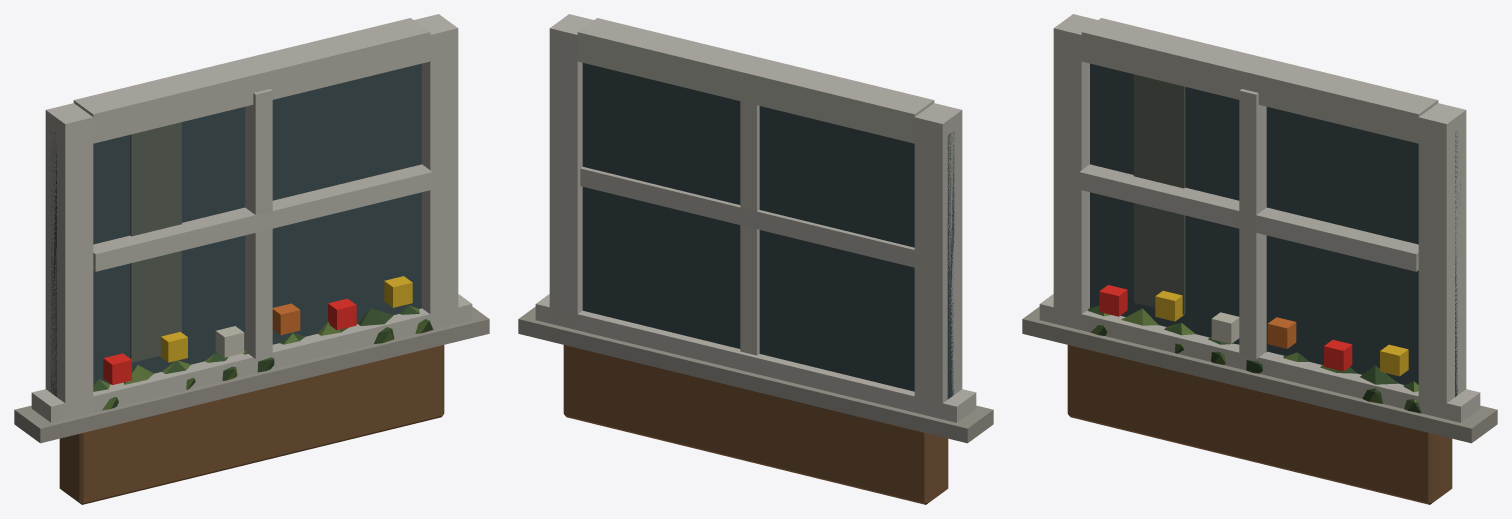
The model's file is house_window.fbx.
3 views of the same model, side by side, from view 1: azimuth 30°, elevation 25°; view 2: azimuth 150°, elevation 25°; view 3: azimuth 330°, elevation 25° (orthographic).
Visible parts, largest first — view 1: house_window; view 2: house_window; view 3: house_window.
Boxes of the visible parts, x1,y1,x2,y2 form: house_window: [14, 14, 489, 504]; house_window: [518, 14, 993, 504]; house_window: [1022, 14, 1497, 504].
Bounding box in the file's own units: 1.6 × 1.32 × 0.16.
